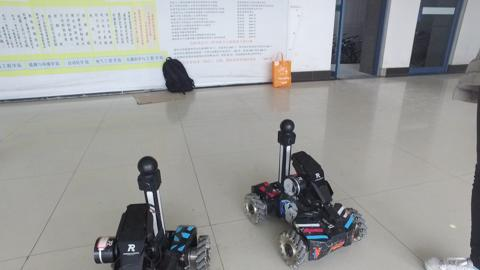bag: (153, 54, 201, 95), (266, 52, 294, 91)
chariot: (243, 114, 372, 268), (88, 154, 218, 270)
